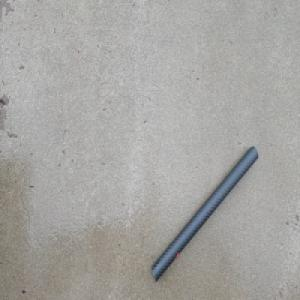LuggagePart: (151, 144, 259, 284)
